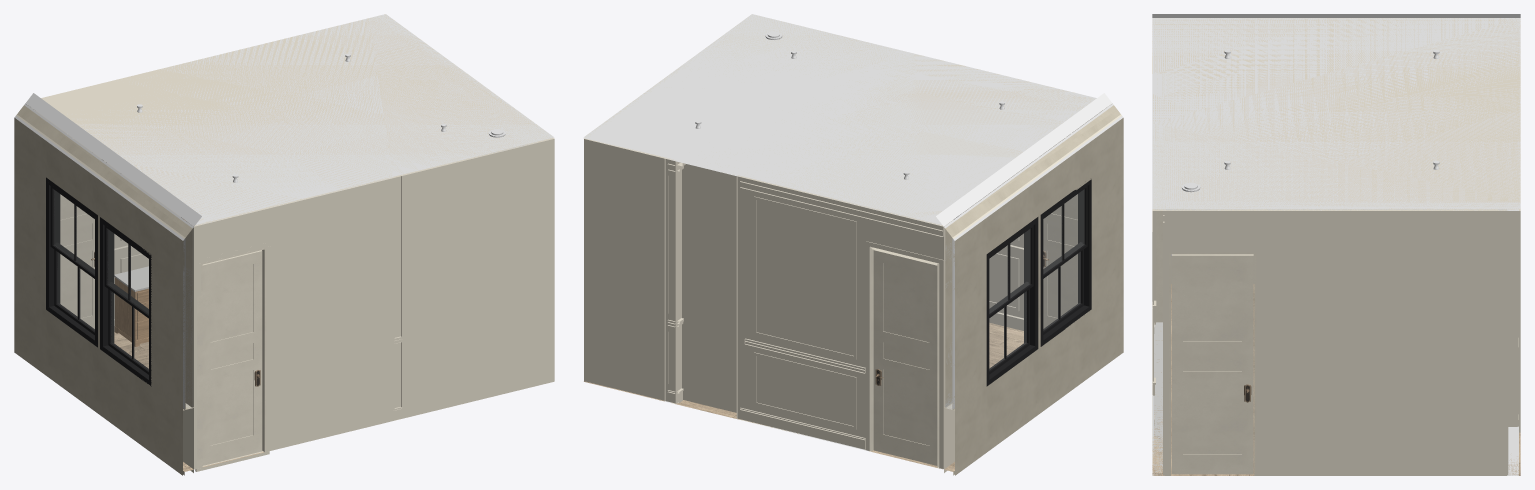
File: green-bedroom-ab259147aa17.glb
3 views of the same model, side by side, from view 1: azimuth 30°, elevation 25°; view 2: azimuth 150°, elevation 25°; view 3: azimuth 270°, elevation 25° (orthographic). The views are drawn at different scales.
Parts seen in each view (by area): view 1: green-bedroom-eb02897c2e79e2b1, green-bedroom-e8793759323e04f0, green-bedroom-9d91b47435c6fb33, green-bedroom-312b4ac1be39223d, green-bedroom-7406100458e293ce, green-bedroom-33ee0b466567e5f0, green-bedroom-eea30be35ce76d8a, green-bedroom-b27266f3159d5f34, green-bedroom-5e646f76b0244fe8, green-bedroom-39b94aca90fa4b53, green-bedroom-3a4d9d62ecd7be1c, green-bedroom-442e5a19ed849720 (+5 smaller); view 2: green-bedroom-9d91b47435c6fb33, green-bedroom-b6ab44e8ab2b63f4, green-bedroom-8d8280a2b3ef8b4c, green-bedroom-312b4ac1be39223d, green-bedroom-e8793759323e04f0, green-bedroom-689020e0fc226264, green-bedroom-5e646f76b0244fe8, green-bedroom-33ee0b466567e5f0, green-bedroom-eea30be35ce76d8a, green-bedroom-b27266f3159d5f34, green-bedroom-7406100458e293ce, green-bedroom-4fe5579be934d30a (+9 smaller); view 3: green-bedroom-64efeecf845bccca, green-bedroom-9d91b47435c6fb33, green-bedroom-e8793759323e04f0, green-bedroom-b50904fb6ee0544e, green-bedroom-eb02897c2e79e2b1, green-bedroom-689020e0fc226264, green-bedroom-34287d1b870c745c, green-bedroom-2575515a05775d9e, green-bedroom-442e5a19ed849720, green-bedroom-8d8280a2b3ef8b4c, green-bedroom-4fe5579be934d30a.
Part boxes in pixels (x1,y1,x2,y2): green-bedroom-eb02897c2e79e2b1: [188, 139, 554, 469]; green-bedroom-e8793759323e04f0: [27, 14, 552, 224]; green-bedroom-9d91b47435c6fb33: [25, 14, 554, 226]; green-bedroom-312b4ac1be39223d: [14, 116, 184, 409]; green-bedroom-7406100458e293ce: [202, 250, 262, 465]; green-bedroom-33ee0b466567e5f0: [14, 287, 193, 475]; green-bedroom-eea30be35ce76d8a: [46, 177, 97, 347]; green-bedroom-b27266f3159d5f34: [100, 217, 151, 386]; green-bedroom-5e646f76b0244fe8: [60, 138, 100, 328]; green-bedroom-39b94aca90fa4b53: [17, 105, 192, 409]; green-bedroom-3a4d9d62ecd7be1c: [24, 103, 193, 407]; green-bedroom-442e5a19ed849720: [201, 247, 266, 467]; green-bedroom-9d91b47435c6fb33: [583, 14, 1112, 226]; green-bedroom-b6ab44e8ab2b63f4: [736, 176, 949, 469]; green-bedroom-8d8280a2b3ef8b4c: [584, 138, 681, 403]; green-bedroom-312b4ac1be39223d: [953, 116, 1123, 409]; green-bedroom-e8793759323e04f0: [585, 15, 1110, 224]; green-bedroom-689020e0fc226264: [676, 160, 737, 418]; green-bedroom-5e646f76b0244fe8: [873, 250, 937, 465]; green-bedroom-33ee0b466567e5f0: [944, 287, 1123, 475]; green-bedroom-eea30be35ce76d8a: [986, 217, 1038, 386]; green-bedroom-b27266f3159d5f34: [1040, 179, 1091, 346]; green-bedroom-7406100458e293ce: [1039, 137, 1077, 328]; green-bedroom-4fe5579be934d30a: [664, 158, 676, 403]; green-bedroom-64efeecf845bccca: [1163, 209, 1508, 475]; green-bedroom-9d91b47435c6fb33: [1152, 18, 1520, 210]; green-bedroom-e8793759323e04f0: [1152, 14, 1520, 209]; green-bedroom-b50904fb6ee0544e: [1171, 254, 1253, 474]; green-bedroom-eb02897c2e79e2b1: [1152, 209, 1164, 475]; green-bedroom-689020e0fc226264: [1508, 211, 1518, 426]; green-bedroom-34287d1b870c745c: [1169, 252, 1256, 475]; green-bedroom-2575515a05775d9e: [1152, 284, 1520, 475]; green-bedroom-442e5a19ed849720: [1156, 211, 1162, 322]; green-bedroom-8d8280a2b3ef8b4c: [1507, 209, 1518, 475]; green-bedroom-4fe5579be934d30a: [1519, 211, 1520, 432].
Size of the model in its own units: 4.64 by 3.04 by 3.65.
33 materials, 8 textured.
